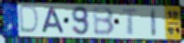9: (70, 5, 91, 37)
A: (40, 6, 66, 34)
B: (91, 7, 116, 37)
D: (19, 4, 41, 35)
I: (150, 7, 158, 38)
T: (120, 8, 140, 36)
